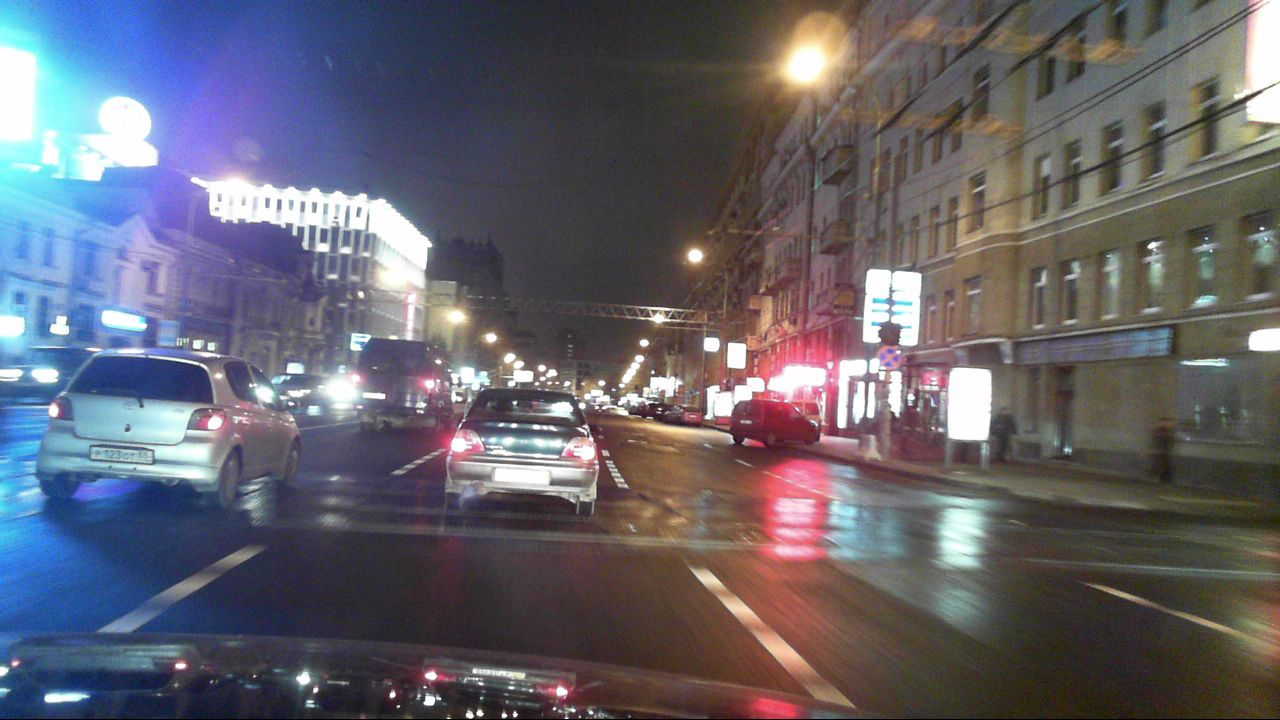No Parking: (877, 346, 899, 369)
